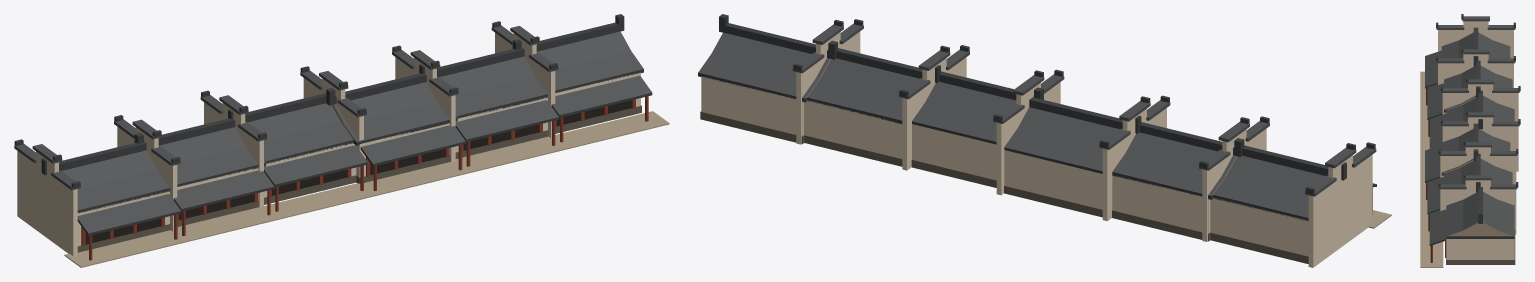
File: K14_far.glb
3 renders of one model, left to right at view 1: azimuth 30°, elevation 25°; view 2: azimuth 150°, elevation 25°; view 3: azimuth 270°, elevation 25°, orthographic. The views are drawn at different scales.
Parts seen in each view (by area): view 1: K14_far; view 2: K14_far; view 3: K14_far.
Part boxes in pixels (<box>): K14_far: <box>14,14,669,267</box>; K14_far: <box>698,14,1391,267</box>; K14_far: <box>1420,14,1520,267</box>.
Size of the model in its own units: 60.8 by 8.65 by 13.15.
